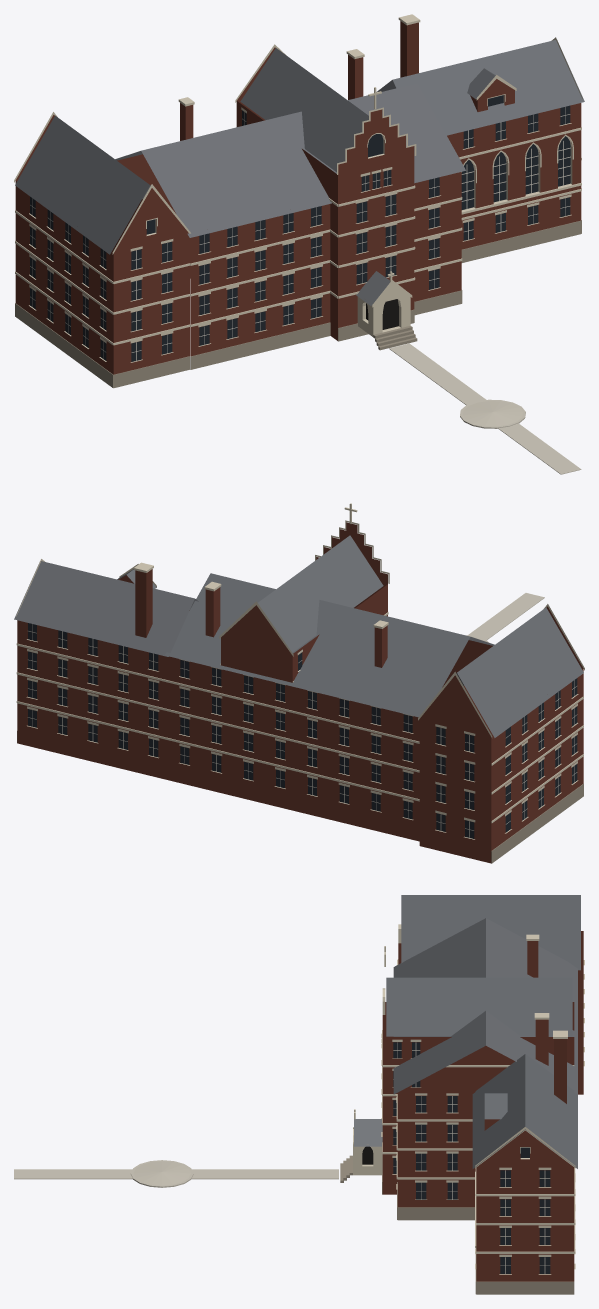
The model's file is mount-st-mary-academy-1913.glb.
3 renders of one model, top to bottom at view 1: azimuth 30°, elevation 25°; view 2: azimuth 150°, elevation 25°; view 3: azimuth 270°, elevation 25°, orthographic. The views are drawn at different scales.
Visible parts, largest first — view 1: mount_brick, mount_slate, mount_glass, mount_trim, mount_base, mount_walk, mount_sash, mount_brick2, mount_slate2; view 2: mount_brick, mount_slate, mount_glass, mount_trim, mount_sash, mount_base, mount_walk, mount_brick2; view 3: mount_slate, mount_brick, mount_trim, mount_walk, mount_glass, mount_base, mount_slate2, mount_brick2, mount_sash.
Part boxes in pixels (bbox=[...]): mount_brick: bbox=[15, 47, 581, 374]; mount_slate: bbox=[15, 40, 584, 254]; mount_glass: bbox=[30, 95, 570, 361]; mount_trim: bbox=[14, 14, 582, 362]; mount_base: bbox=[15, 220, 581, 388]; mount_walk: bbox=[389, 343, 581, 474]; mount_sash: bbox=[30, 107, 570, 360]; mount_brick2: bbox=[400, 21, 418, 77]; mount_slate2: bbox=[356, 271, 390, 305]; mount_brick: bbox=[17, 522, 583, 863]; mount_slate: bbox=[14, 535, 583, 737]; mount_glass: bbox=[28, 623, 577, 838]; mount_trim: bbox=[16, 503, 584, 839]; mount_sash: bbox=[27, 624, 577, 837]; mount_base: bbox=[17, 731, 583, 863]; mount_walk: bbox=[466, 593, 544, 642]; mount_brick2: bbox=[135, 569, 152, 637]; mount_slate: bbox=[386, 895, 580, 1168]; mount_brick: bbox=[382, 931, 583, 1281]; mount_trim: bbox=[353, 924, 584, 1274]; mount_walk: bbox=[14, 1160, 338, 1187]; mount_glass: bbox=[393, 1042, 550, 1273]; mount_base: bbox=[340, 1155, 574, 1294]; mount_slate2: bbox=[354, 1119, 382, 1146]; mount_brick2: bbox=[554, 1039, 566, 1103]; mount_sash: bbox=[393, 1042, 550, 1273].
Size of the model in its own units: 60.45 by 27.45 by 61.64.
